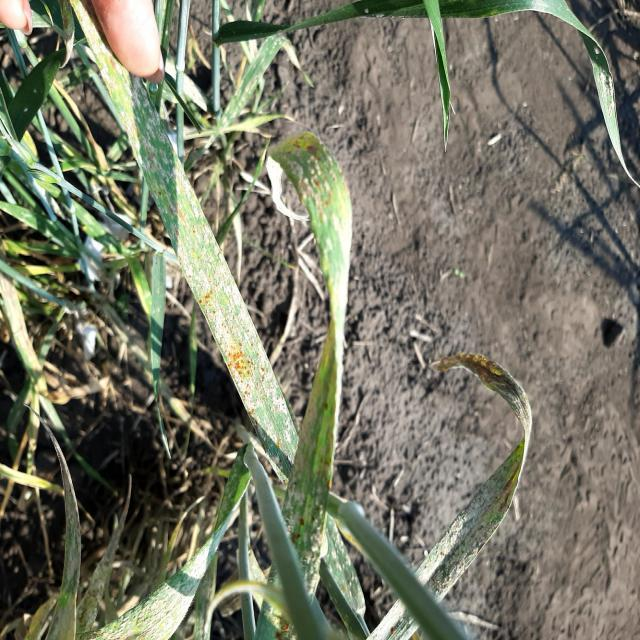wheat-powdery-mildew: (94, 41, 353, 598), (437, 355, 533, 572), (94, 534, 218, 640)
